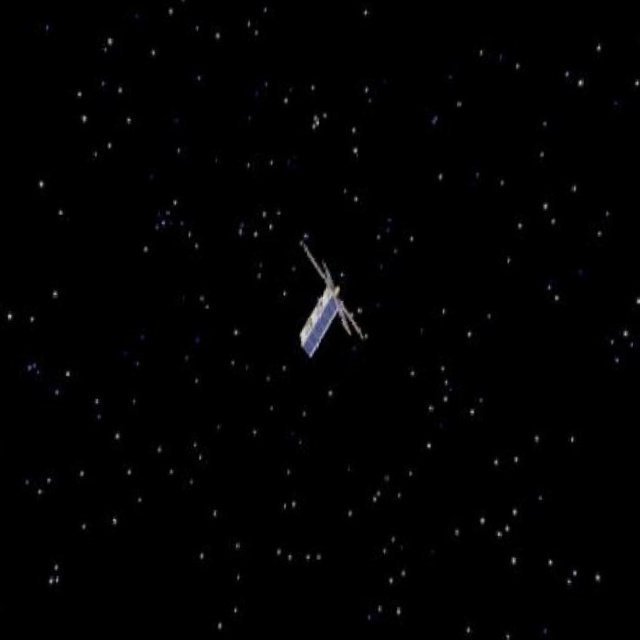medium_debris: (276, 231, 391, 361)
